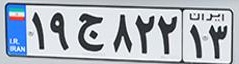character: (74, 10, 108, 53), (109, 11, 135, 55), (156, 13, 181, 57), (47, 9, 73, 51), (134, 13, 155, 56), (207, 22, 229, 61), (29, 9, 47, 51), (187, 22, 204, 59)
